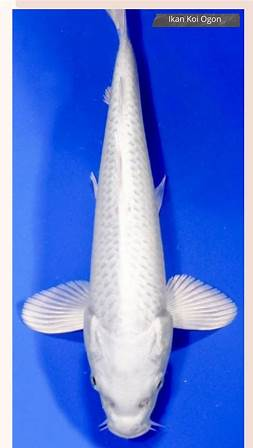white: (22, 9, 236, 439)
